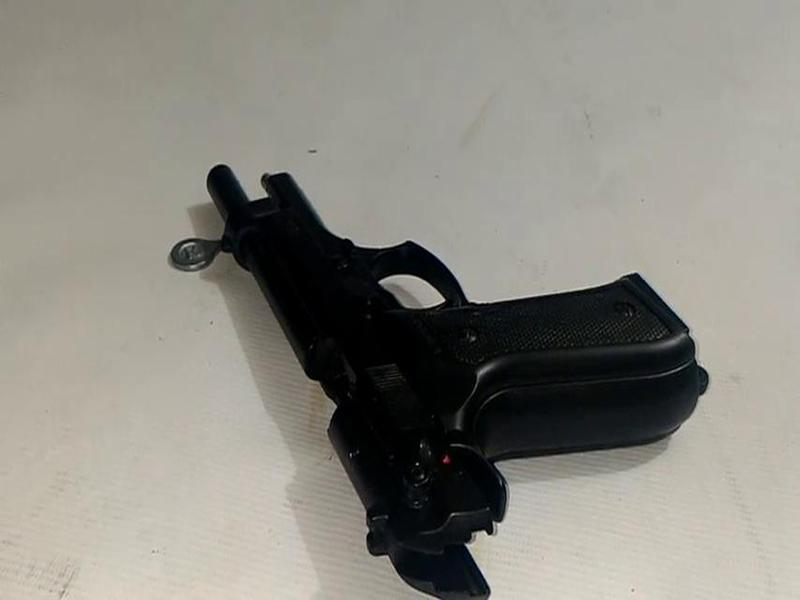Pistola: (187, 147, 721, 584)
